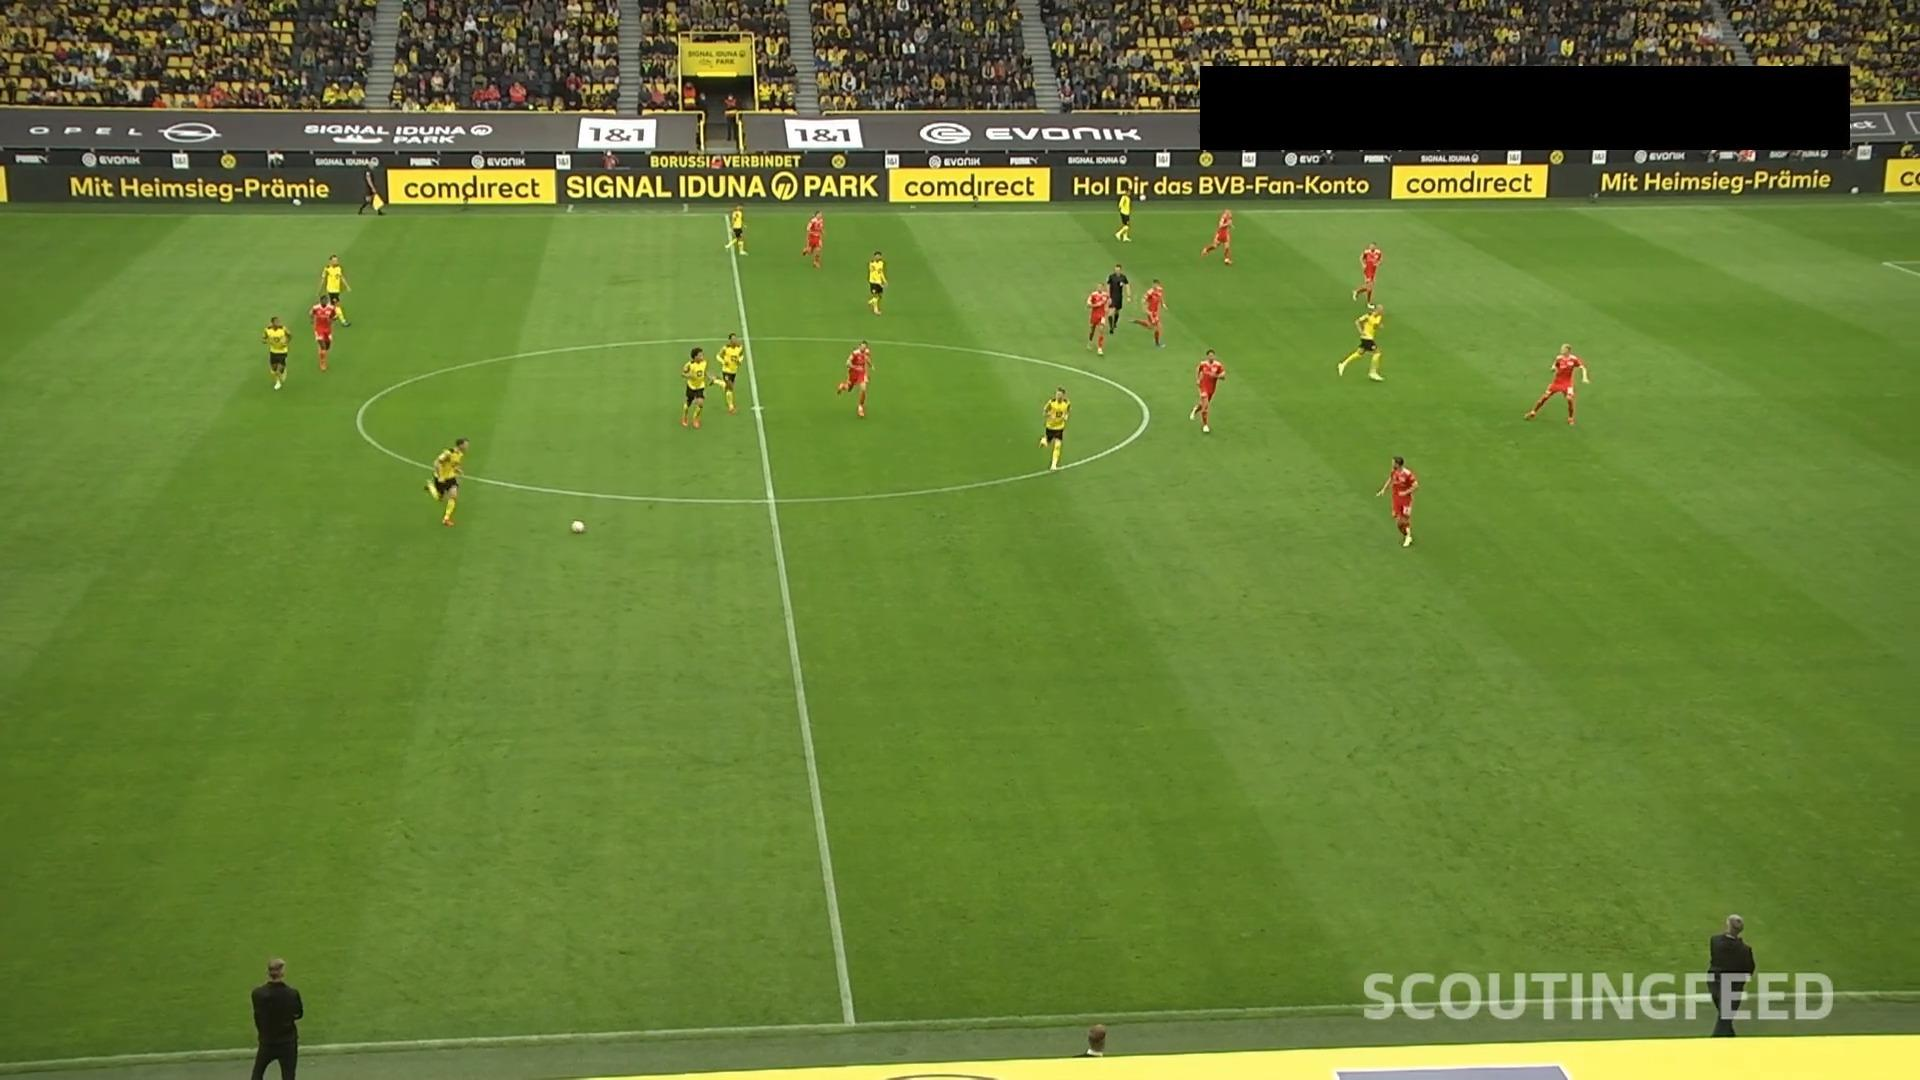ball: (568, 518, 588, 537)
